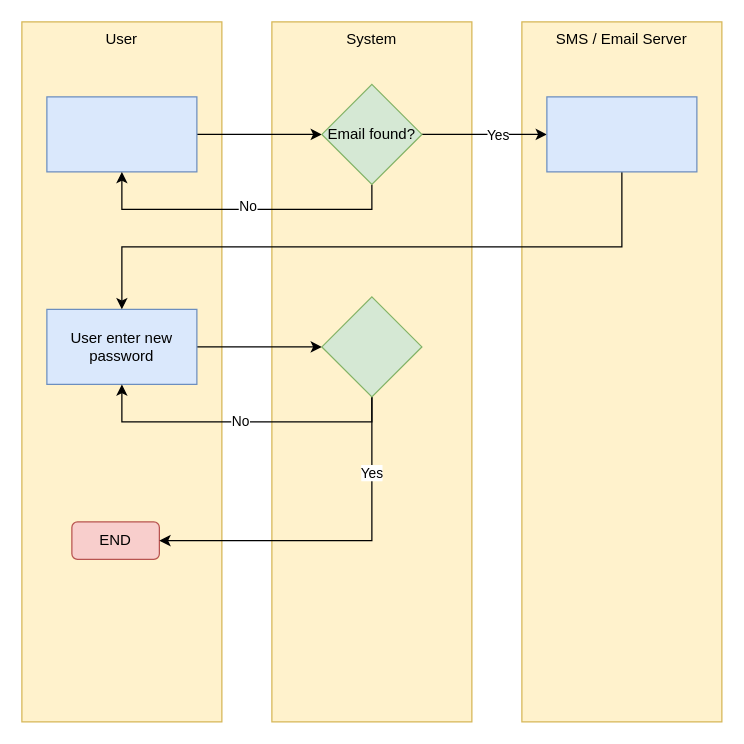
This 744x744 diagram has some shape labels left out. The shapes that lost their labels are listed below. From the top down, each one's box as (x1, y1, x2, y2) in pixels, then its label:
(46, 96, 197, 172): User reset password
(546, 96, 697, 172): Send reset password link to user's email.
(321, 296, 422, 397): Password change successful?
